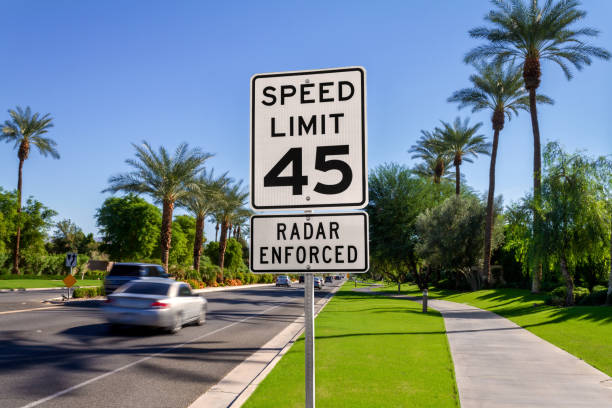SpeedLimitSign: (248, 65, 368, 208)
